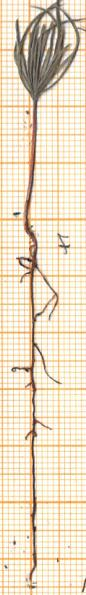flower: (0, 0, 86, 102)
root: (7, 216, 63, 595)
stem: (13, 102, 49, 218)
